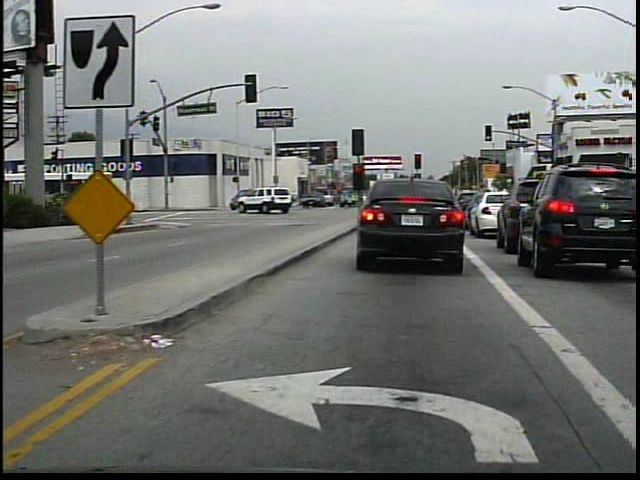person: (90, 189, 110, 225)
